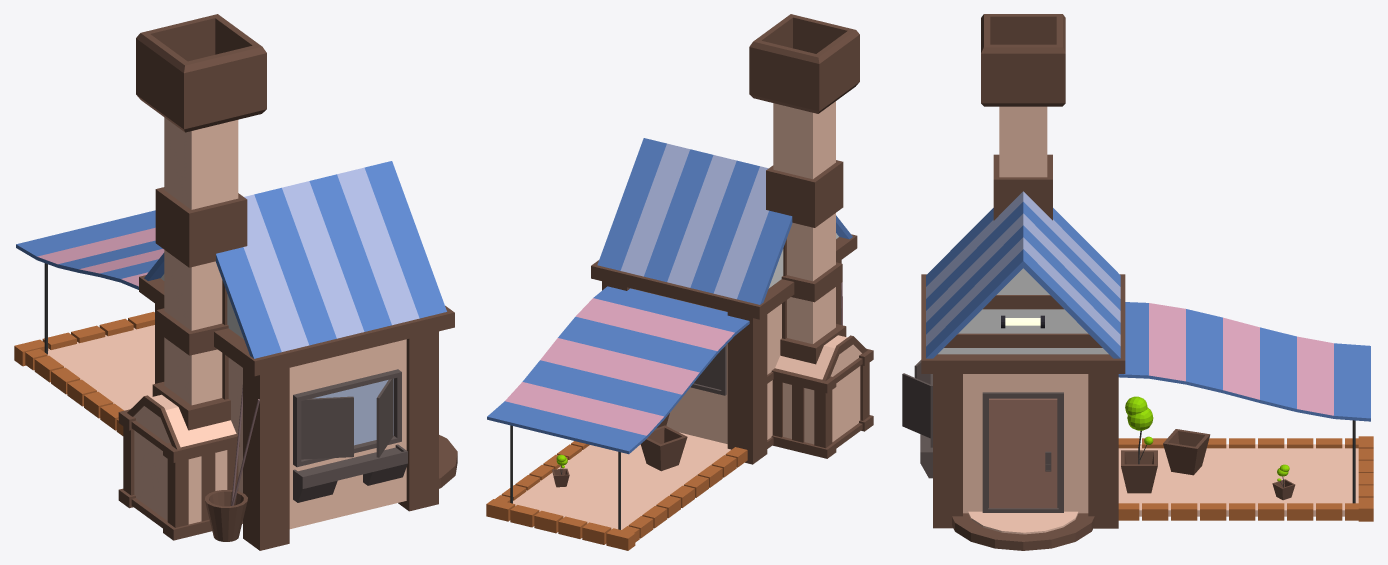
Rendered from NomalHouse_A.fbx.
The picture shows the model from 3 angles, left to right: view 1: azimuth 30°, elevation 25°; view 2: azimuth 150°, elevation 25°; view 3: azimuth 270°, elevation 25°; orthographic projection. The views are drawn at different scales.
Visible parts, largest first — view 1: Cube.123, Cube.104, Cube.103, Cube.117, Cube.110, Cube.122, Cube.109, Cube.115, Cube.111, Cube.118, Cube.128, Cube.126 (+15 smaller); view 2: Cube.110, Cube.123, Cube.104, Cube.115, Cube.116, Cube.122, Cube.103, Cube.111, Cube.127, Cube.126, Cube.121, Cube.125 (+9 smaller); view 3: Cube.110, Cube.104, Cube.123, Cube.115, Cube.103, Cube.106, Cube.111, Cube.108, Cube.109, Cube.112, Cube.125, Cylinder.039 (+10 smaller).
Boxes of the visible parts, bbox=[...] form: Cube.123: bbox=[136, 14, 266, 405]; Cube.104: bbox=[144, 161, 446, 358]; Cube.103: bbox=[228, 339, 406, 528]; Cube.117: bbox=[243, 368, 289, 550]; Cube.110: bbox=[16, 210, 164, 289]; Cube.122: bbox=[134, 394, 236, 524]; Cube.109: bbox=[398, 331, 438, 511]; Cube.115: bbox=[47, 325, 154, 410]; Cube.111: bbox=[139, 275, 454, 376]; Cube.118: bbox=[293, 444, 407, 502]; Cube.128: bbox=[301, 396, 353, 459]; Cube.126: bbox=[25, 349, 123, 435]; Cube.110: bbox=[487, 286, 749, 454]; Cube.123: bbox=[749, 14, 859, 343]; Cube.104: bbox=[597, 138, 852, 304]; Cube.115: bbox=[513, 432, 730, 529]; Cube.116: bbox=[727, 312, 767, 464]; Cube.122: bbox=[775, 335, 861, 444]; Cube.103: bbox=[632, 288, 781, 443]; Cube.111: bbox=[591, 234, 857, 319]; Cube.127: bbox=[486, 499, 635, 550]; Cube.126: bbox=[622, 447, 747, 542]; Cube.121: bbox=[640, 425, 687, 471]; Cube.125: bbox=[495, 441, 589, 502]; Cube.110: bbox=[1118, 302, 1370, 421]; Cube.104: bbox=[926, 191, 1120, 358]; Cube.123: bbox=[981, 14, 1065, 220]; Cube.115: bbox=[1118, 444, 1358, 516]; Cube.103: bbox=[963, 374, 1088, 513]; Cube.106: bbox=[989, 398, 1057, 508]; Cube.111: bbox=[921, 274, 1125, 373]; Cube.108: bbox=[1088, 374, 1118, 528]; Cube.109: bbox=[933, 374, 962, 528]; Cube.112: bbox=[938, 268, 1108, 354]; Cube.125: bbox=[1118, 503, 1358, 520]; Cylinder.039: bbox=[952, 513, 1094, 550].
Size of the model in its own units: 2591 by 3916 by 3981.
